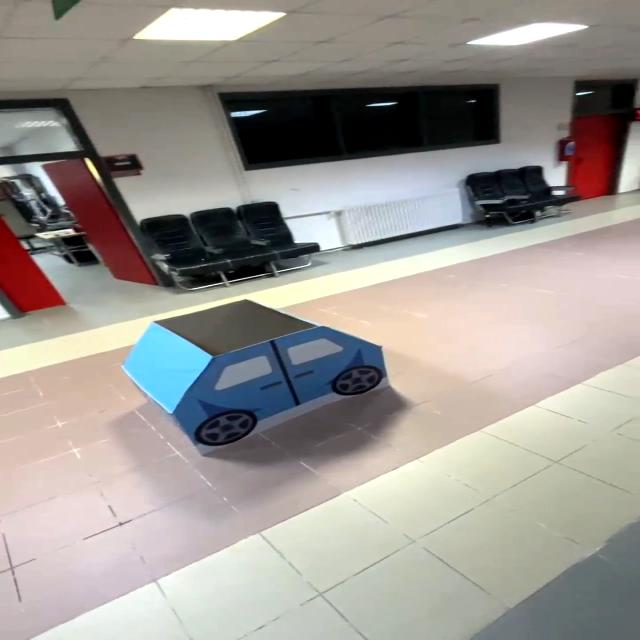blue_car: (87, 286, 418, 464)
